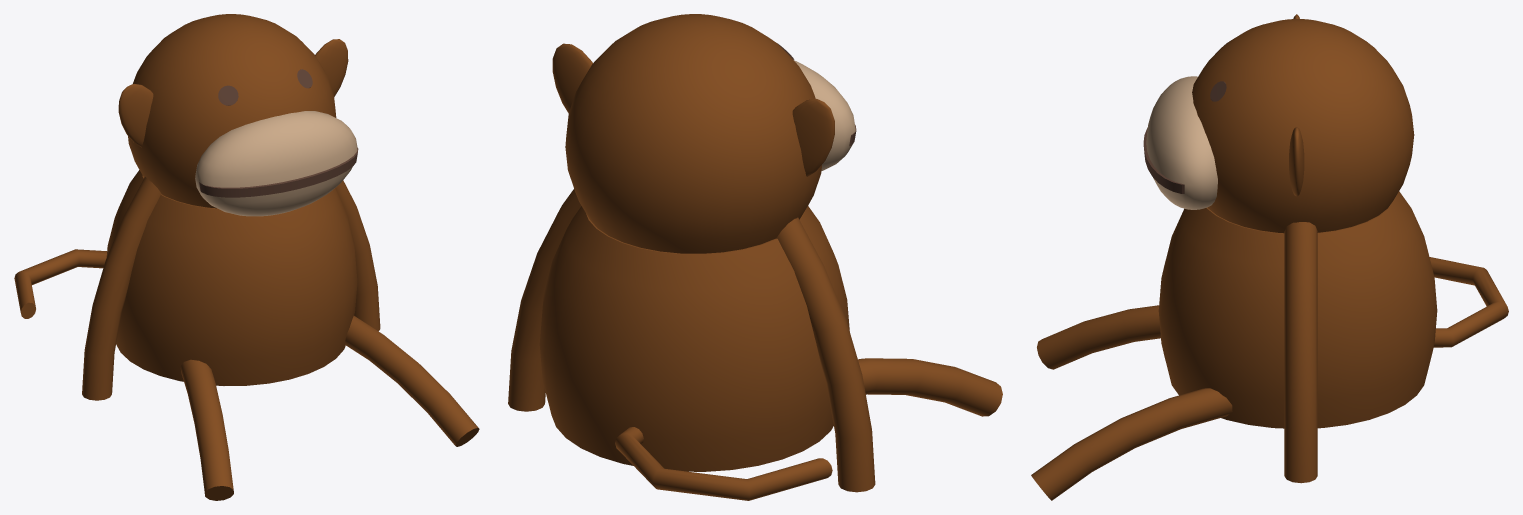
Rendered from Monkey Plush.fbx.
3 renders of one model, left to right at view 1: azimuth 30°, elevation 25°; view 2: azimuth 150°, elevation 25°; view 3: azimuth 270°, elevation 25°, orthographic. The views are drawn at different scales.
Visible parts, largest first — view 1: monkeyPlushTorso, monkeyPlushHead, monkeyPlushMouth, monkeyPlushArmRight, monkeyPlushLegLeft, monkeyPlushLegRight, monkeyPlushArmLeft, monkeyPlushTail, monkeyPlush, monkeyPlushEarRight; view 2: monkeyPlushTorso, monkeyPlushHead, monkeyPlushArmRight, monkeyPlushArmLeft, monkeyPlushLegRight, monkeyPlushTail, monkeyPlush, monkeyPlushMouth, monkeyPlushEarRight; view 3: monkeyPlushTorso, monkeyPlushHead, monkeyPlushArmLeft, monkeyPlushLegLeft, monkeyPlushMouth, monkeyPlushLegRight, monkeyPlushTail, monkeyPlushEarRight.
Part boxes in pixels (x1,y1,x2,y2): monkeyPlushTorso: (106, 170, 357, 385); monkeyPlushHead: (128, 14, 336, 208); monkeyPlushMouth: (195, 111, 358, 216); monkeyPlushArmRight: (82, 177, 161, 400); monkeyPlushLegLeft: (345, 316, 479, 446); monkeyPlushLegRight: (180, 359, 233, 500); monkeyPlushArmLeft: (335, 180, 380, 331); monkeyPlushTail: (14, 249, 106, 318); monkeyPlush: (118, 84, 153, 147); monkeyPlushEarRight: (315, 39, 348, 96); monkeyPlushTorso: (539, 206, 849, 471); monkeyPlushHead: (565, 14, 821, 253); monkeyPlushArmRight: (776, 217, 875, 492); monkeyPlushArmLeft: (508, 189, 581, 411); monkeyPlushLegRight: (858, 358, 1002, 416); monkeyPlushTail: (615, 427, 832, 500); monkeyPlush: (792, 99, 834, 176); monkeyPlushMouth: (794, 60, 856, 171); monkeyPlushEarRight: (552, 43, 592, 113); monkeyPlushTorso: (1158, 191, 1437, 428); monkeyPlushHead: (1192, 19, 1414, 233); monkeyPlushArmLeft: (1284, 222, 1317, 483); monkeyPlushLegLeft: (1031, 388, 1232, 500); monkeyPlushMouth: (1143, 76, 1217, 209); monkeyPlushLegRight: (1037, 305, 1160, 369); monkeyPlushTail: (1429, 257, 1508, 347); monkeyPlushEarRight: (1289, 127, 1304, 196).
Size of the model in its own units: 76.1 by 86.57 by 92.31.
3 materials, 3 textured.
